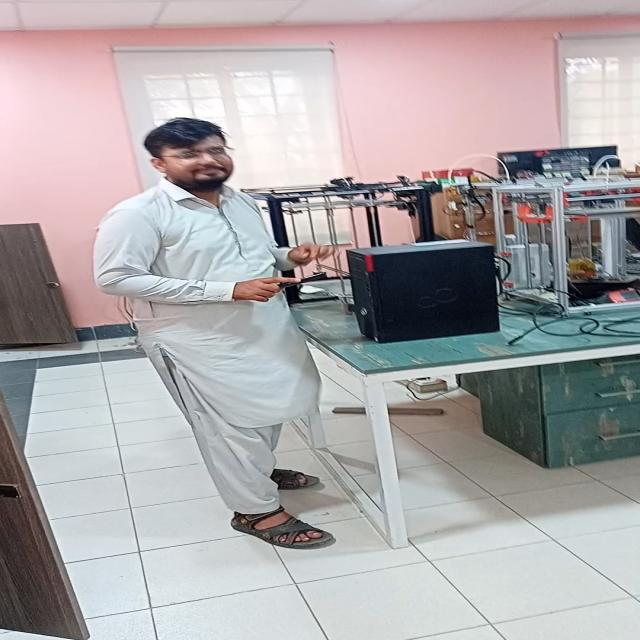dress: (90, 177, 328, 515)
